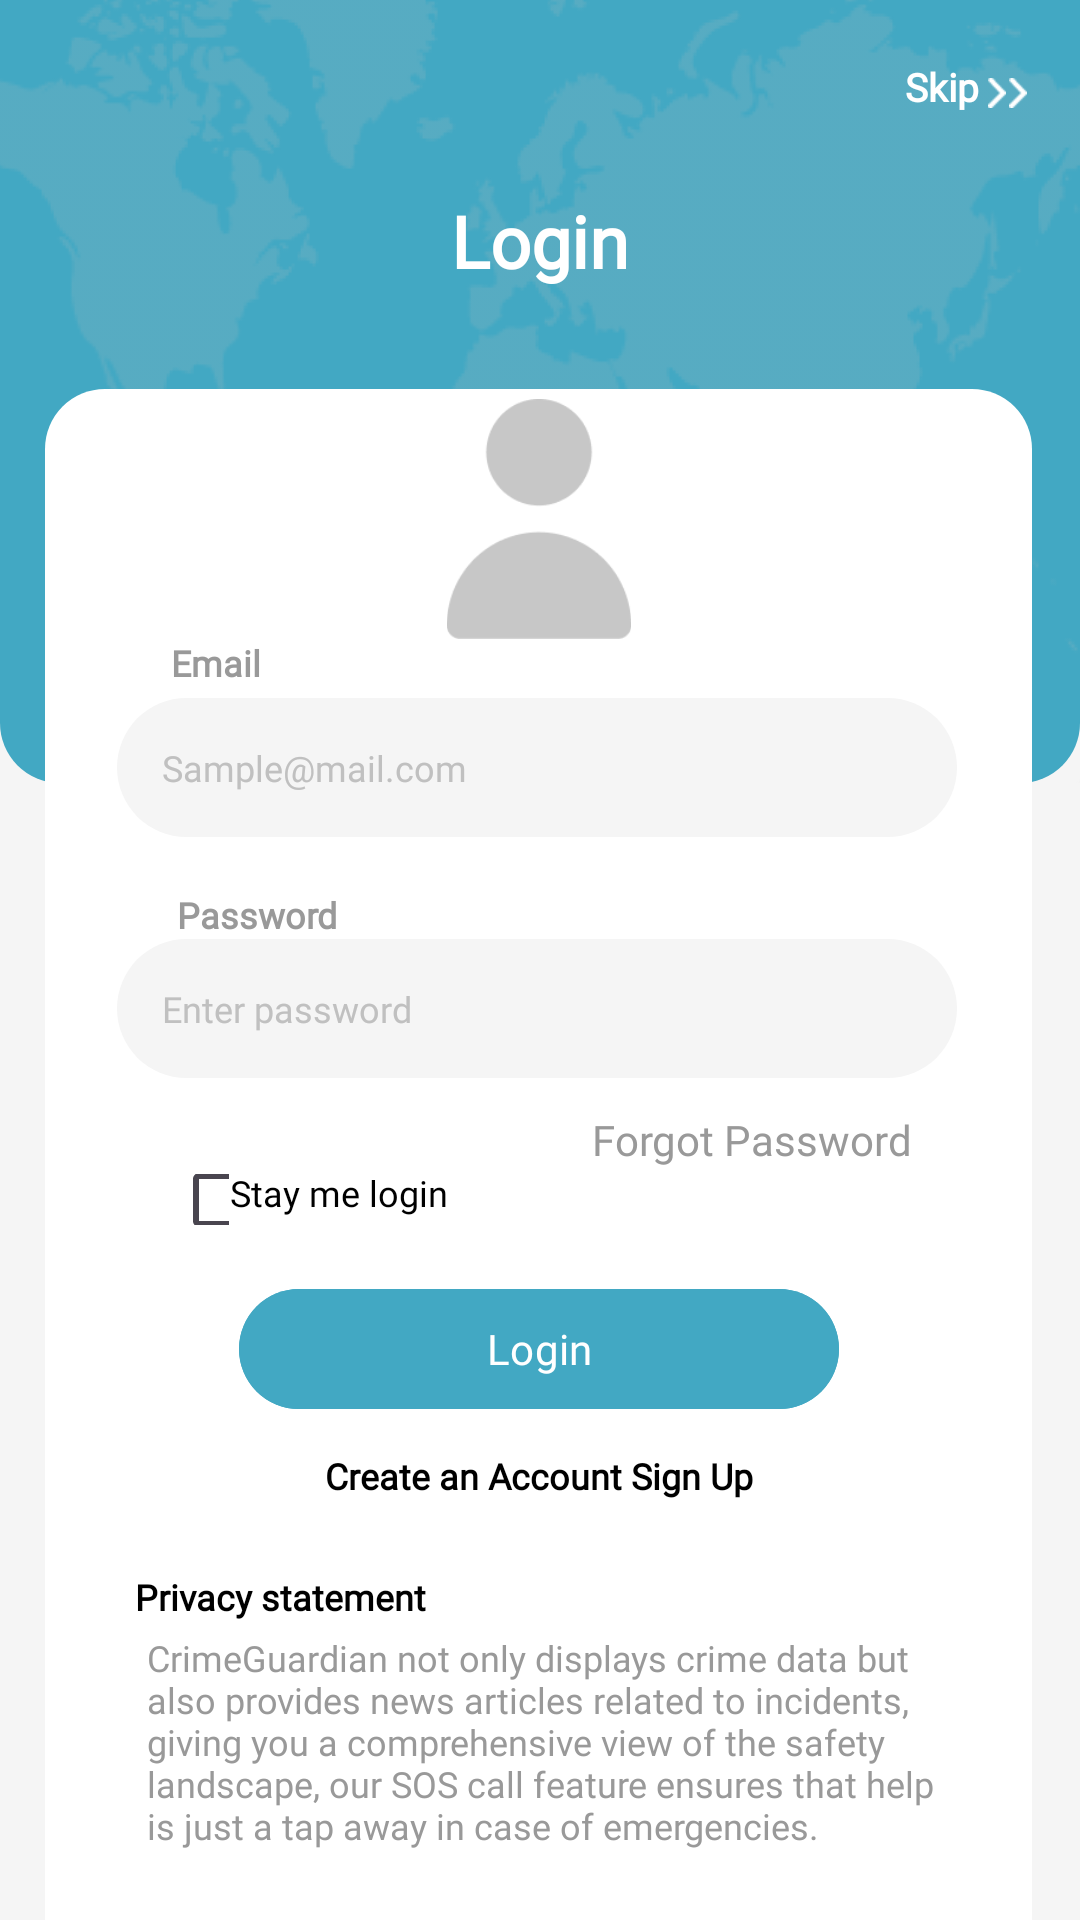

Named icons in this screenshot (1080px×1920px) and their bounding boxes, box(x1, y1, x2, y2):
upload profile: box(447, 399, 631, 639)
